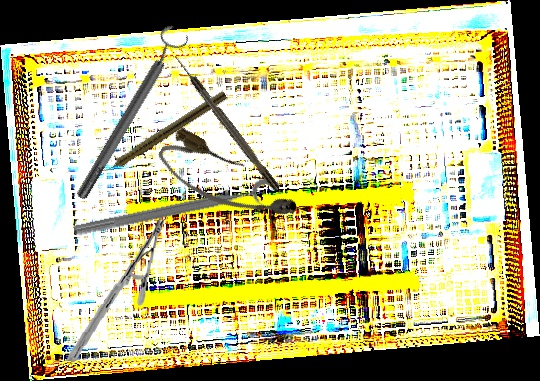Cannula: (151, 123, 304, 240)
Fixation Ring: (65, 21, 194, 206), (71, 175, 286, 254)
Handpiece: (100, 87, 228, 178)
Hook Surgical: (172, 53, 281, 193)
Needle Holder: (66, 212, 167, 368)
